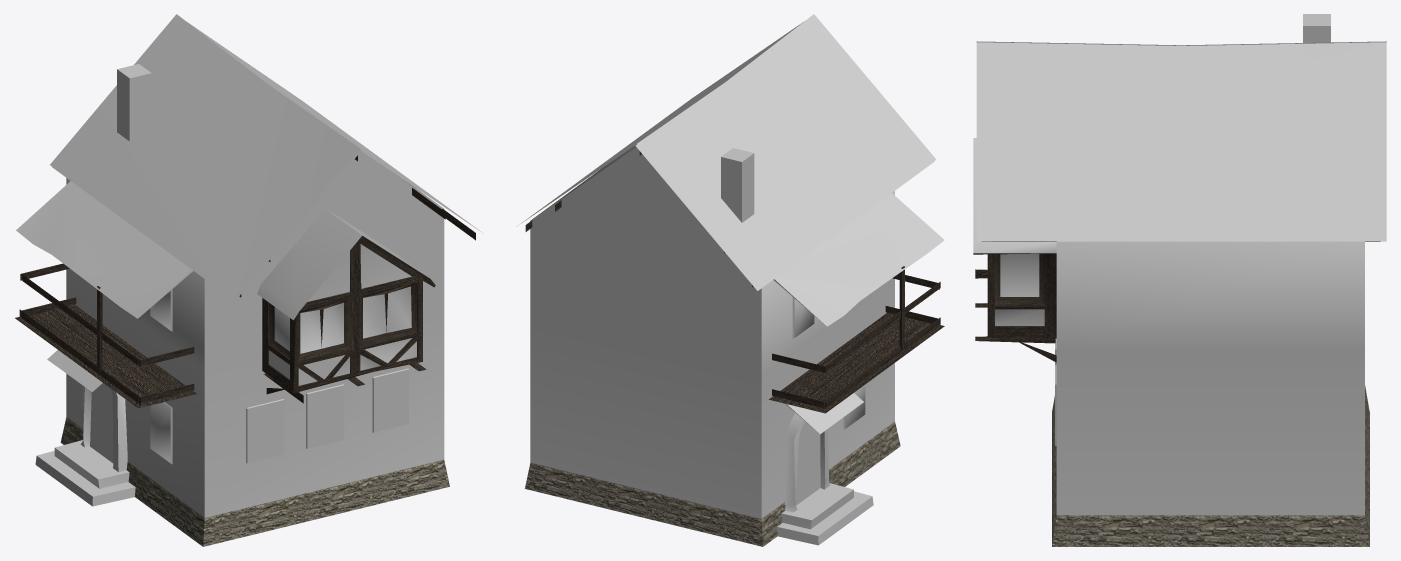
The model's file is house4_LOD2.fbx.
The picture shows the model from 3 angles, left to right: view 1: azimuth 30°, elevation 25°; view 2: azimuth 150°, elevation 25°; view 3: azimuth 270°, elevation 25°; orthographic projection. The views are drawn at different scales.
Visible parts, largest first — view 1: Mesh Object; view 2: Mesh Object; view 3: Mesh Object.
Boxes of the visible parts, x1=… form: Mesh Object: x1=15, y1=14, x2=483, y2=546; Mesh Object: x1=518, y1=14, x2=944, y2=546; Mesh Object: x1=973, y1=14, x2=1386, y2=546.
Size of the model in its own units: 9.89 by 12.18 by 10.39.
